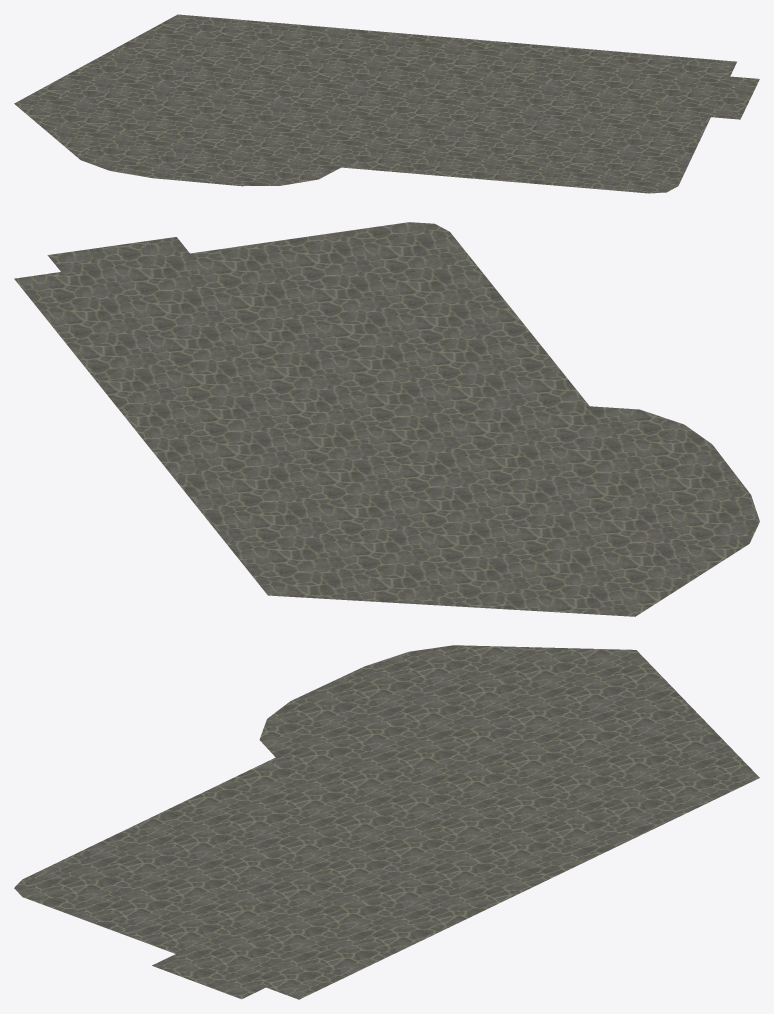
Rendered from xsz_diban_2.FBX.
The picture shows the model from 3 angles, top to bottom: view 1: azimuth 30°, elevation 25°; view 2: azimuth 150°, elevation 25°; view 3: azimuth 270°, elevation 25°; orthographic projection. The views are drawn at different scales.
Parts seen in each view (by area): view 1: xsz_diban_2; view 2: xsz_diban_2; view 3: xsz_diban_2.
Part boxes in pixels (x1,y1,x2,y2): xsz_diban_2: (14, 14, 759, 193); xsz_diban_2: (14, 222, 759, 616); xsz_diban_2: (14, 645, 759, 999).
Size of the model in its own units: 1544 by 0.000183 by 1373.
